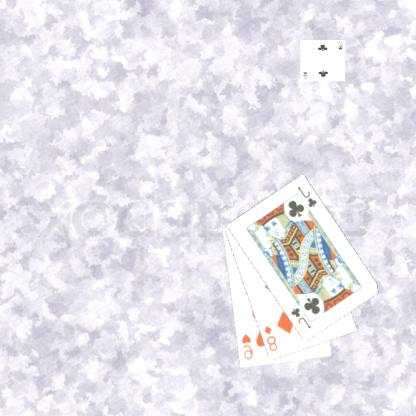8D: (263, 323, 280, 353)
9H: (240, 331, 256, 361)
JC: (296, 184, 321, 209), (290, 305, 314, 330)
